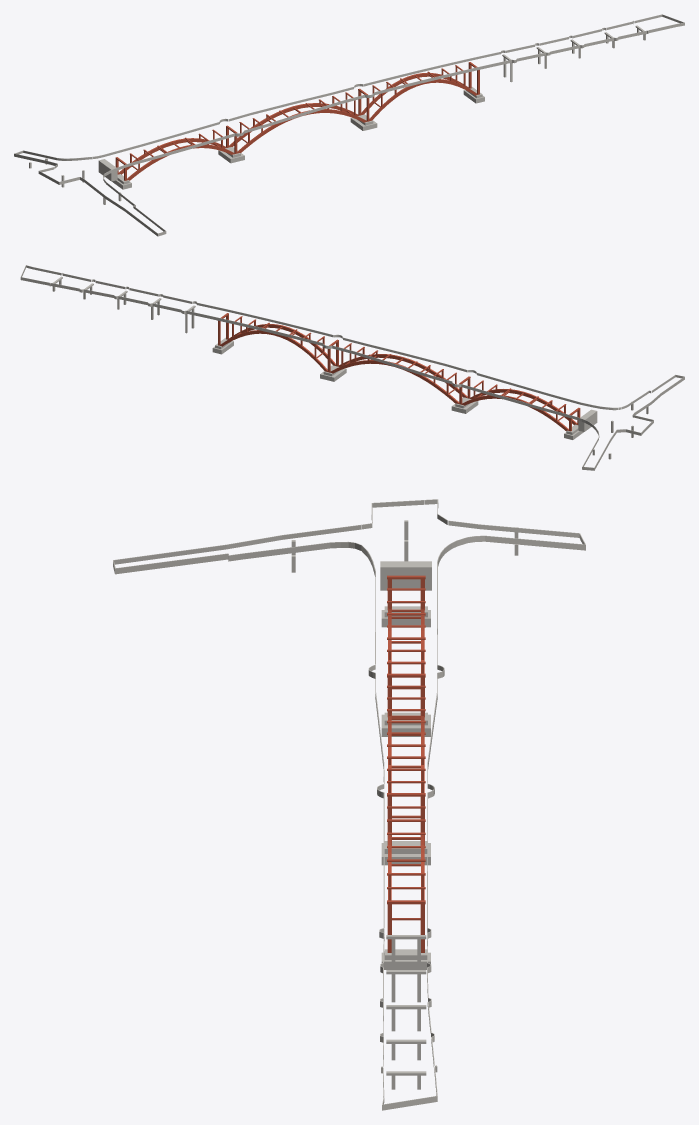
Rendered from pdx-sellwood-bridge.glb.
3 views of the same model, one above another, from view 1: azimuth 30°, elevation 25°; view 2: azimuth 150°, elevation 25°; view 3: azimuth 270°, elevation 25° (orthographic). The views are drawn at different scales.
Visible parts, largest first — view 1: Sellwood Bridge; view 2: Sellwood Bridge; view 3: Sellwood Bridge.
Boxes of the visible parts, left/top/right/bottom form: Sellwood Bridge: left=14, top=14, right=684, bottom=236; Sellwood Bridge: left=20, top=265, right=684, bottom=470; Sellwood Bridge: left=113, top=499, right=585, bottom=1110.
Size of the model in its own units: 619 by 33.49 by 202.
